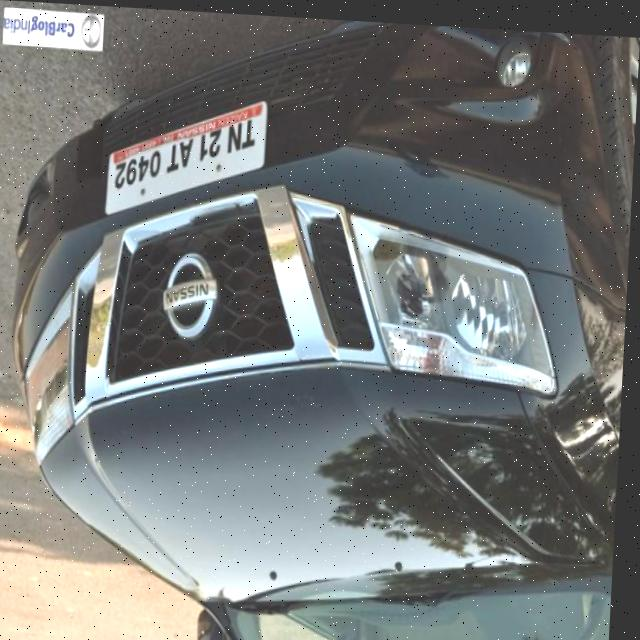plate: (105, 91, 271, 223)
